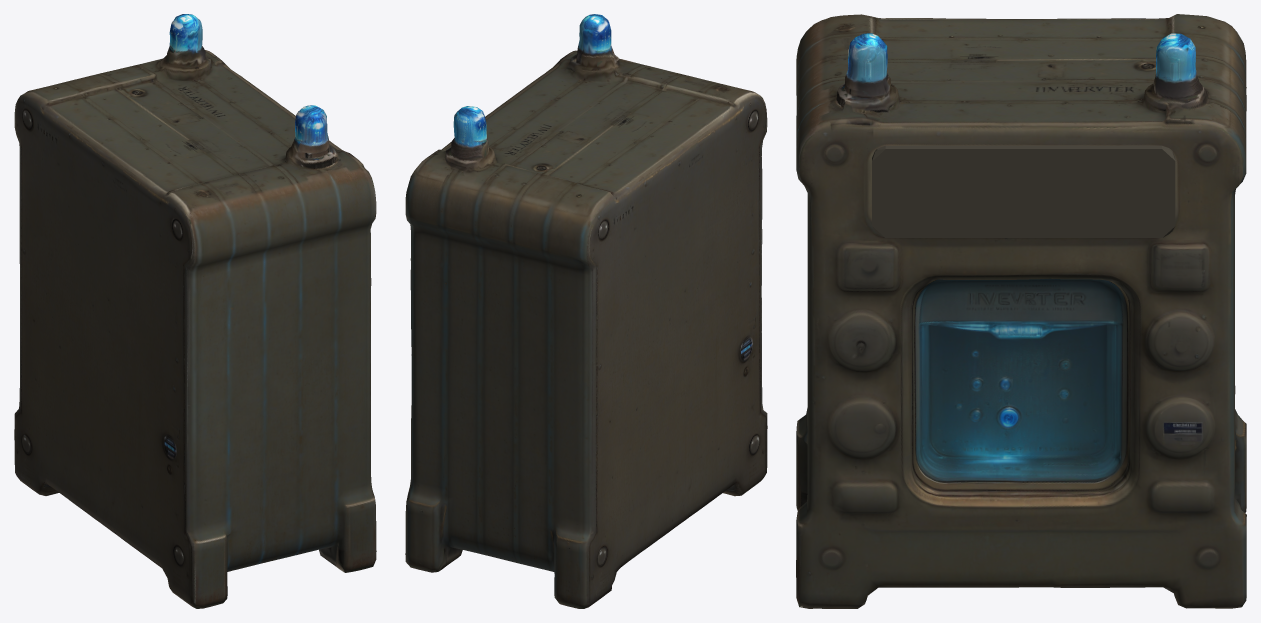
Rendered from Inverter.fbx.
3 renders of one model, left to right at view 1: azimuth 30°, elevation 25°; view 2: azimuth 150°, elevation 25°; view 3: azimuth 270°, elevation 25°, orthographic. The views are drawn at different scales.
Parts seen in each view (by area): view 1: input; view 2: input; view 3: input, Cube.
Boxes of the visible parts, x1,y1,x2,y2 form: input: (14,14,376,608); input: (405,14,767,608); input: (796,14,1246,608); Cube: (872,145,1175,237).
Size of the model in its own units: 88.86 by 200 by 148.
2 materials, 1 textured.
